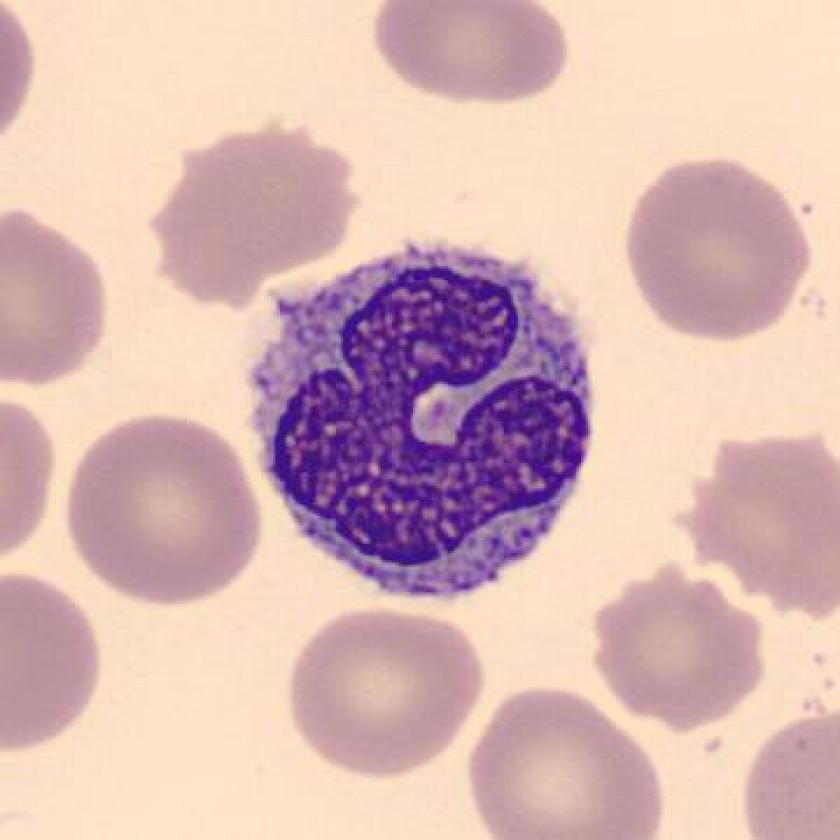monocyte: (221, 228, 634, 630)
